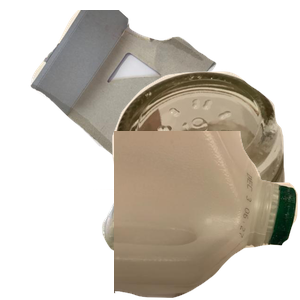glass: (89, 69, 300, 249)
paper: (28, 10, 268, 190)
plastic: (114, 131, 300, 300)
trash: (99, 155, 268, 300)
